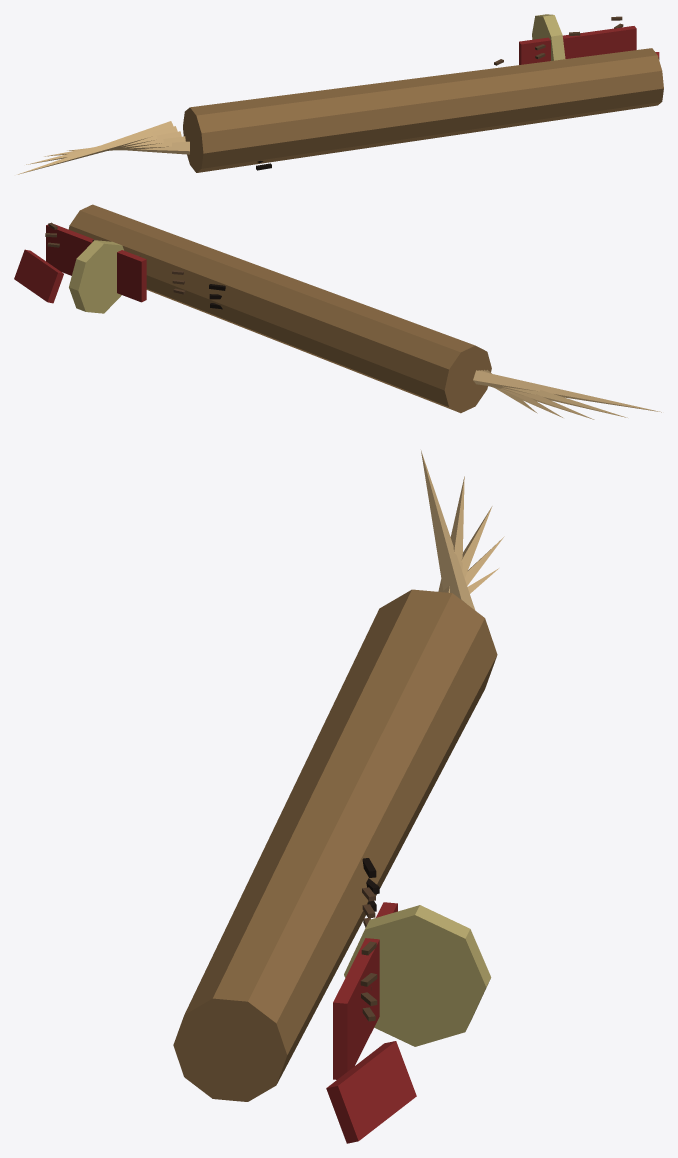
The model's file is prop_closeup_flagpole.glb.
3 renders of one model, top to bottom at view 1: azimuth 30°, elevation 25°; view 2: azimuth 150°, elevation 25°; view 3: azimuth 270°, elevation 25°, orthographic. The views are drawn at different scales.
Parts seen in each view (by area): view 1: prop_closeup_flagpole; view 2: prop_closeup_flagpole; view 3: prop_closeup_flagpole.
Part boxes in pixels (left/top/right/bottom): prop_closeup_flagpole: left=17, top=14, right=663, bottom=174; prop_closeup_flagpole: left=14, top=204, right=661, bottom=419; prop_closeup_flagpole: left=173, top=450, right=504, bottom=1143.
Size of the model in its own units: 1.2 by 0.1304 by 0.273.
